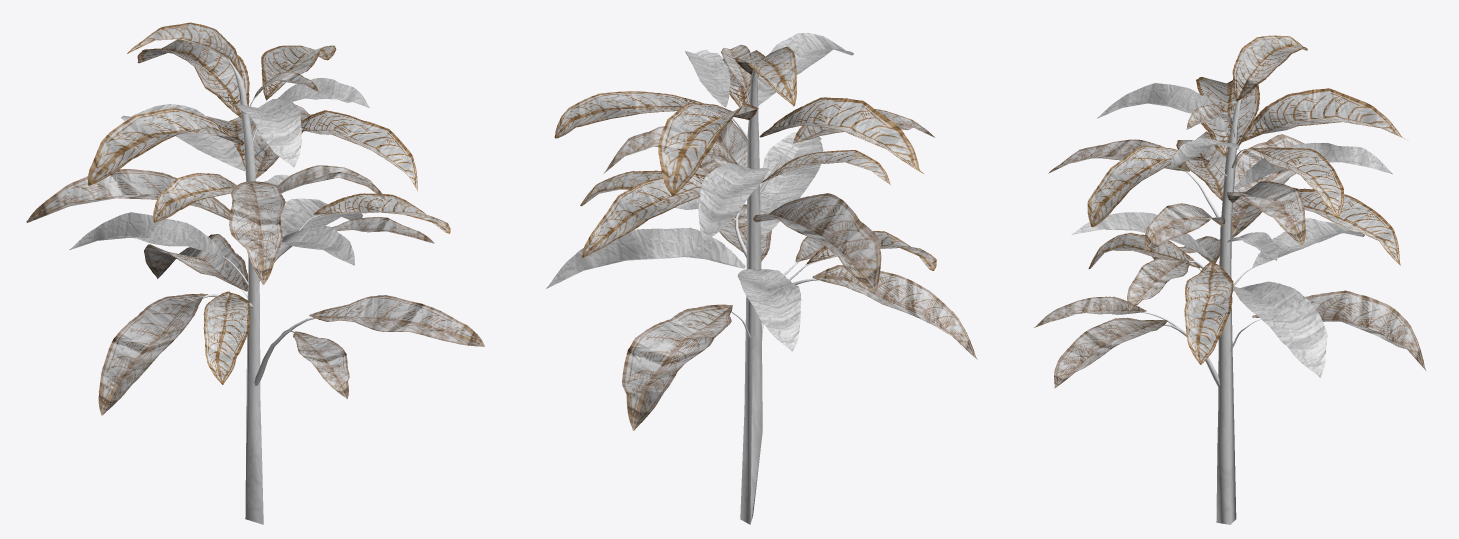
File: sapling.gltf
The picture shows the model from 3 angles, left to right: view 1: azimuth 30°, elevation 25°; view 2: azimuth 150°, elevation 25°; view 3: azimuth 270°, elevation 25°; orthographic projection. The views are drawn at different scales.
Parts seen in each view (by area): view 1: Sapling; view 2: Sapling; view 3: Sapling.
Part boxes in pixels (x1,y1,x2,y2): Sapling: (26,22,484,524); Sapling: (546,33,977,524); Sapling: (1034,35,1426,524).
Bounding box in the file's own units: 0.8379 × 0.979 × 0.8152.
Materials: 4 (4 with a texture image).
